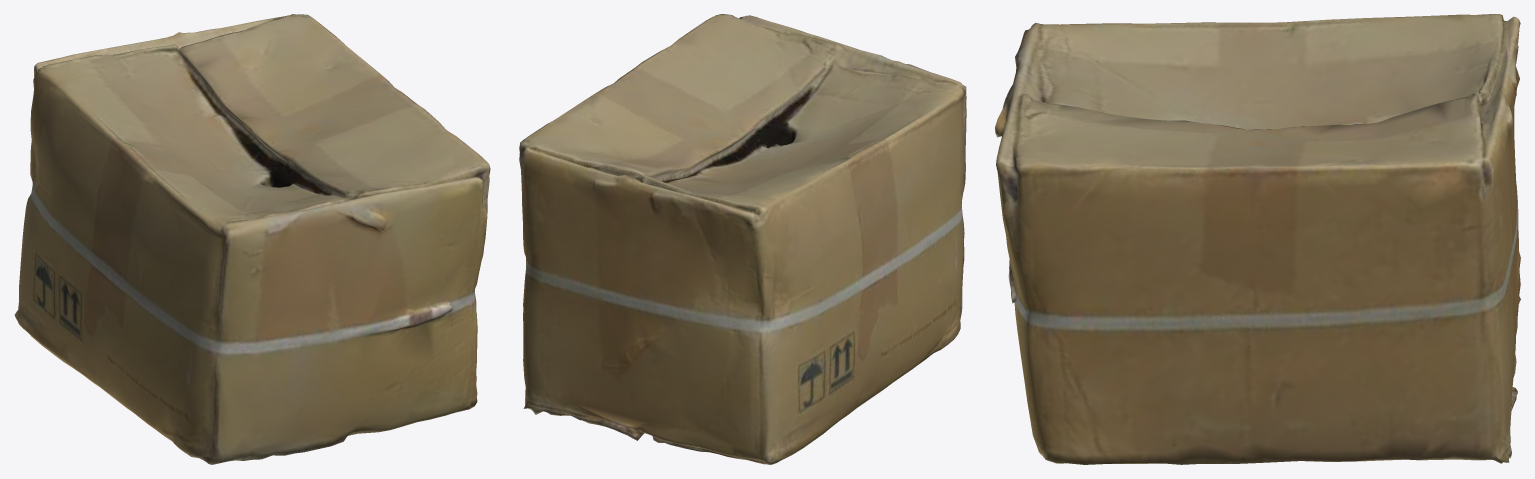
The model's file is cardboard_box_01.glb.
The picture shows the model from 3 angles, left to right: view 1: azimuth 30°, elevation 25°; view 2: azimuth 150°, elevation 25°; view 3: azimuth 270°, elevation 25°; orthographic projection. The views are drawn at different scales.
Parts seen in each view (by area): view 1: cardboard_box_01; view 2: cardboard_box_01; view 3: cardboard_box_01.
Part boxes in pixels (x1,y1,x2,y2): cardboard_box_01: (14,14,490,464); cardboard_box_01: (519,14,966,464); cardboard_box_01: (995,14,1520,464).
Bounding box in the file's own units: 0.3868 × 0.3418 × 0.5159.
1 material, 1 textured.
